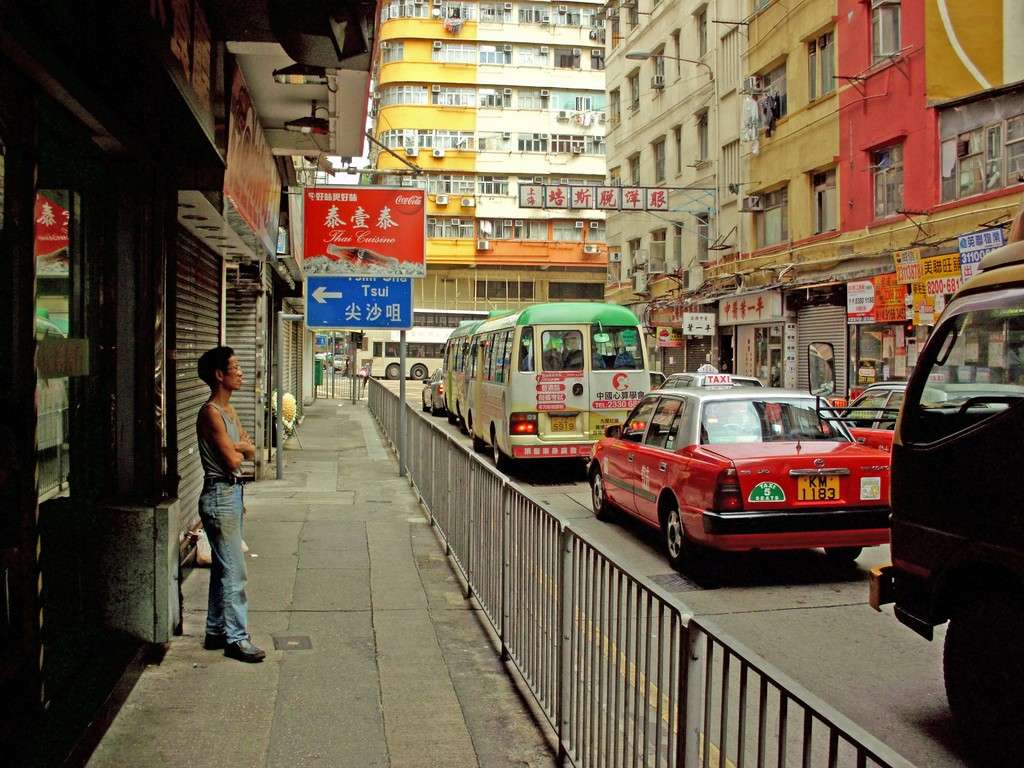mobil: (592, 364, 889, 580)
